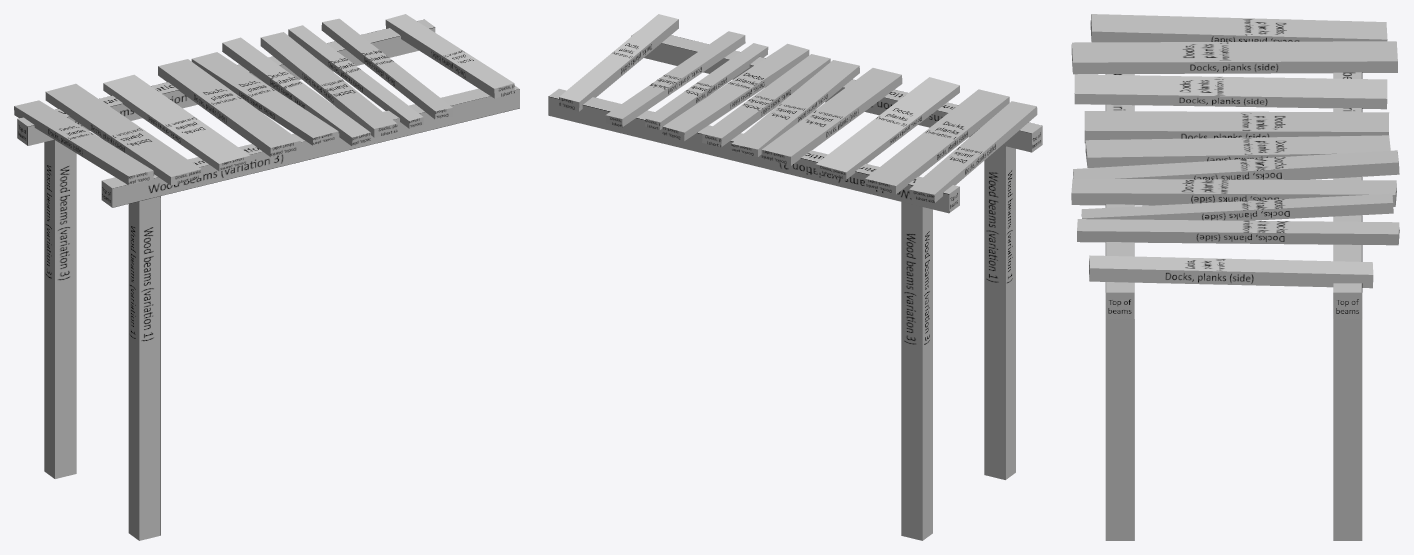
The model's file is Docks01.fbx.
The picture shows the model from 3 angles, left to right: view 1: azimuth 30°, elevation 25°; view 2: azimuth 150°, elevation 25°; view 3: azimuth 270°, elevation 25°; orthographic projection. The views are drawn at different scales.
Parts seen in each view (by area): view 1: Docks_01; view 2: Docks_01; view 3: Docks_01.
Part boxes in pixels (left/top/right/bottom): Docks_01: left=14, top=14, right=519, bottom=540; Docks_01: left=548, top=14, right=1042, bottom=540; Docks_01: left=1071, top=14, right=1399, bottom=540.
Bounding box in the file's own units: 442 × 386 × 228.
1 material, 1 textured.
